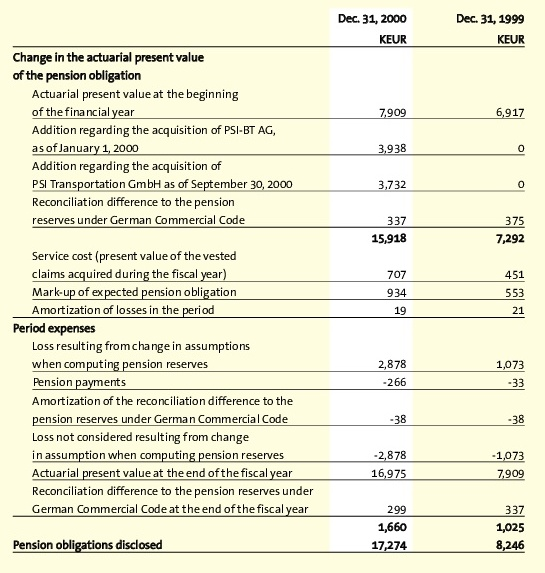table: (0, 0, 545, 573)
